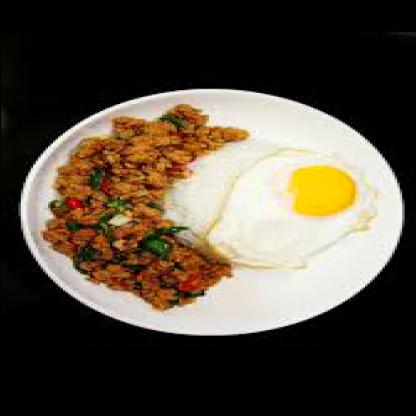Basil Rice: (38, 88, 384, 316)
